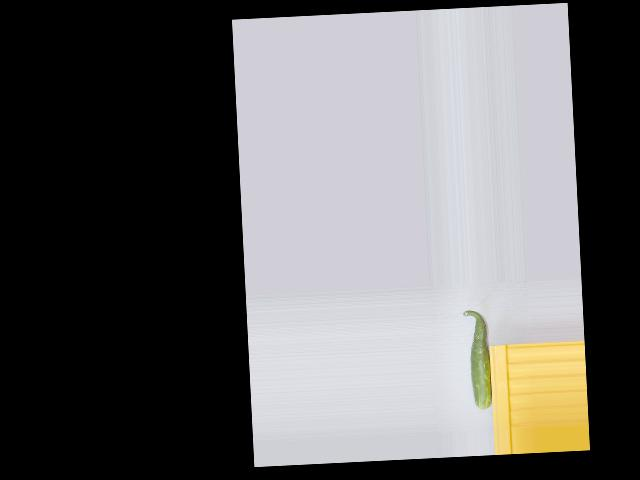cucumber: (463, 309, 492, 409)
